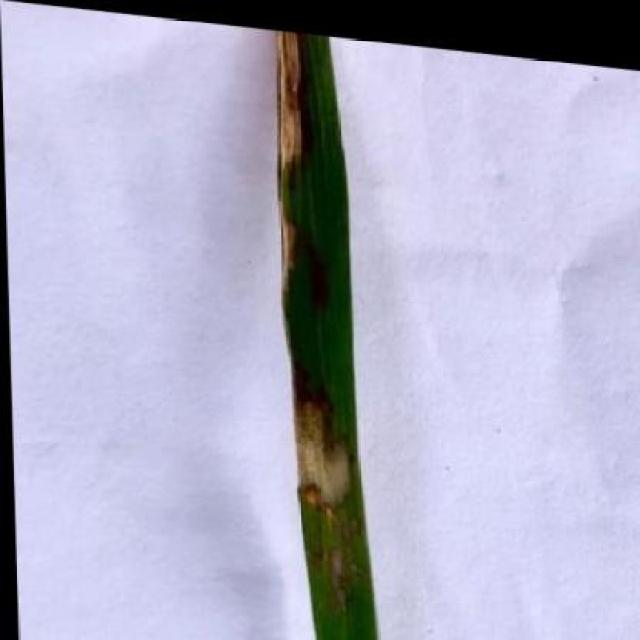Brown_Spot: (262, 23, 386, 640)
